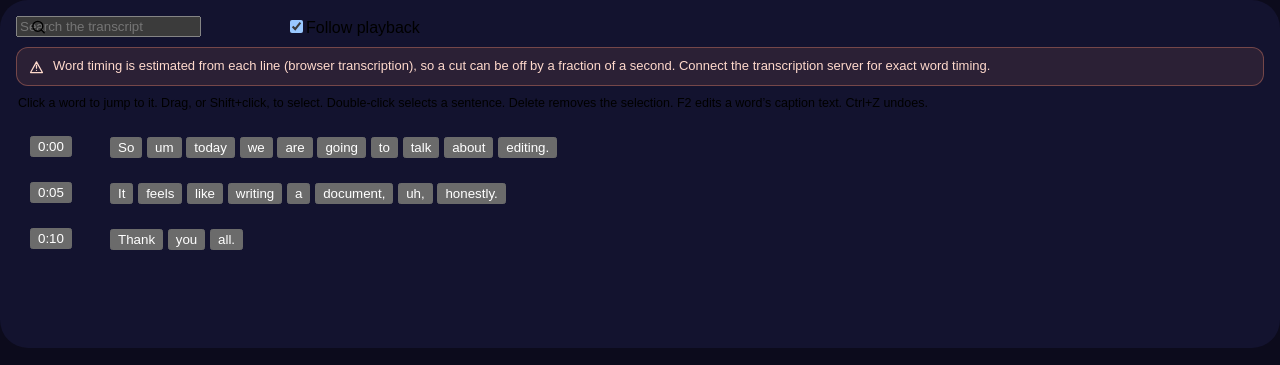
Scenario: Feature 1: transcript editing › edits a caption from the selection bar (Feature 3 records it)
Press the mouse on the button "um" at {"x": 164, "y": 148}, box [147,137,182,158]
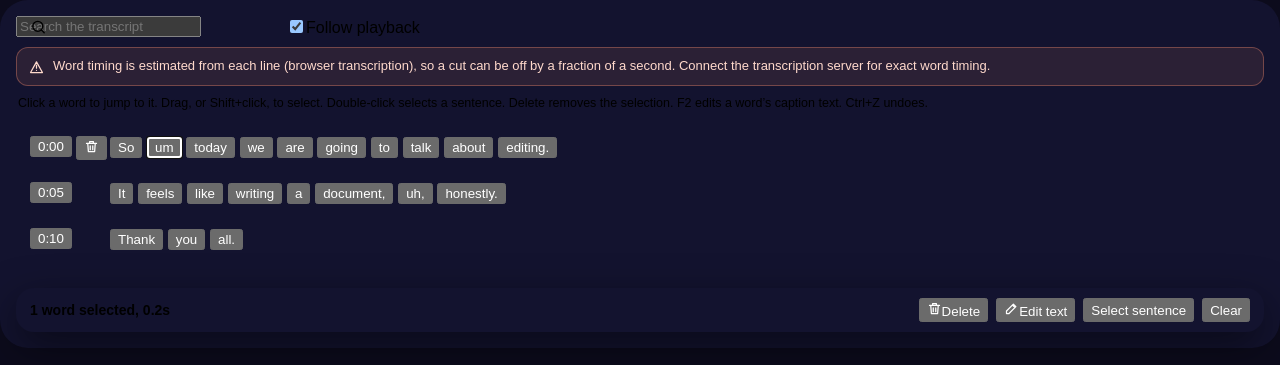
Click the button "Edit text".
click(1036, 310)  # box [996,298,1075,322]
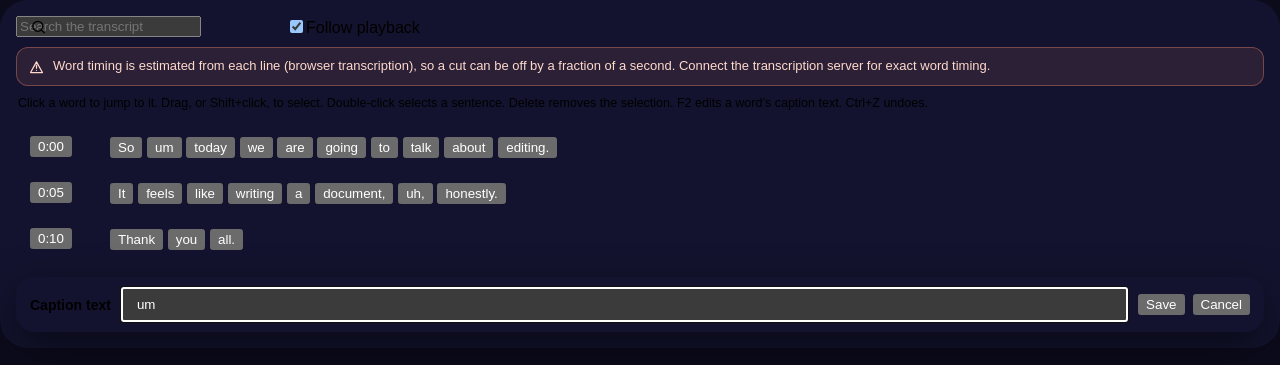
Replace the text in the field labelled "Caption text" with "Well," at {"x": 624, "y": 304}, box [121,287,1128,322]
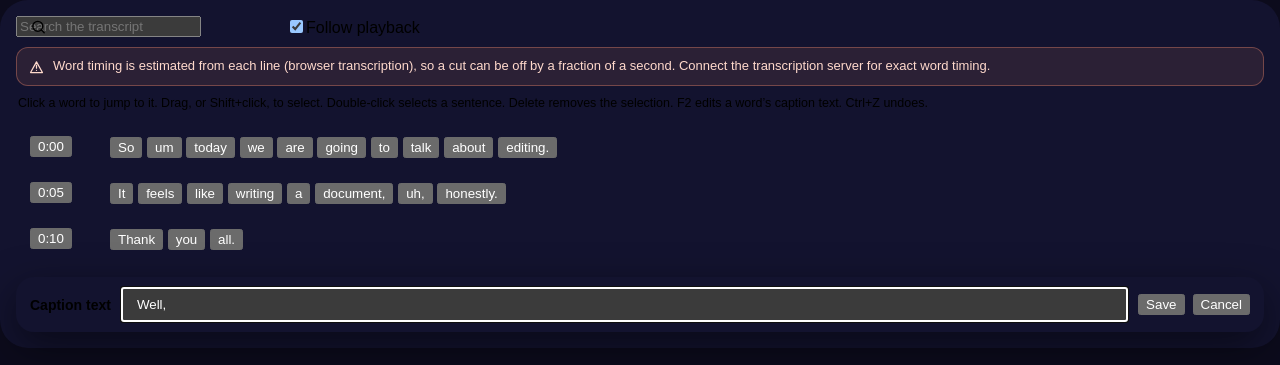
Click the button "Save".
click(1161, 304)  # box [1138,294,1184,315]
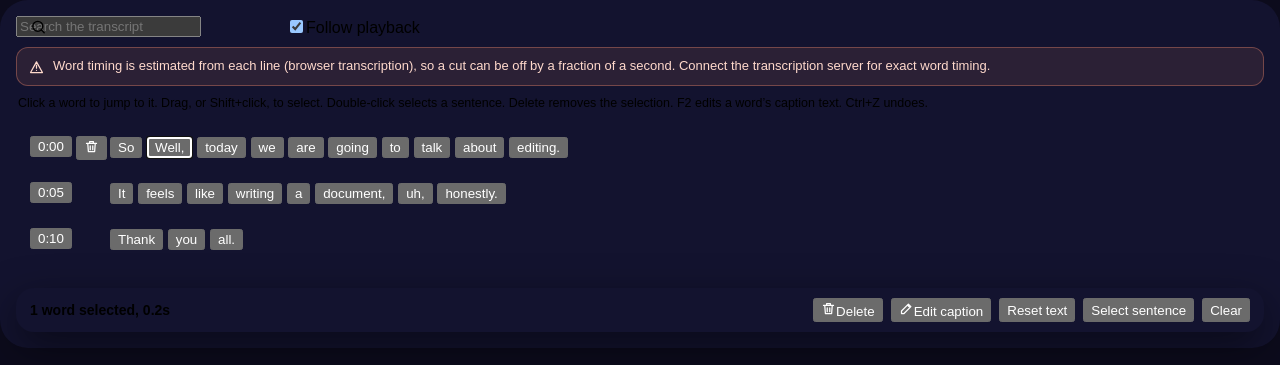
Expected: the button "Well," is shown, [147,137,192,158]
